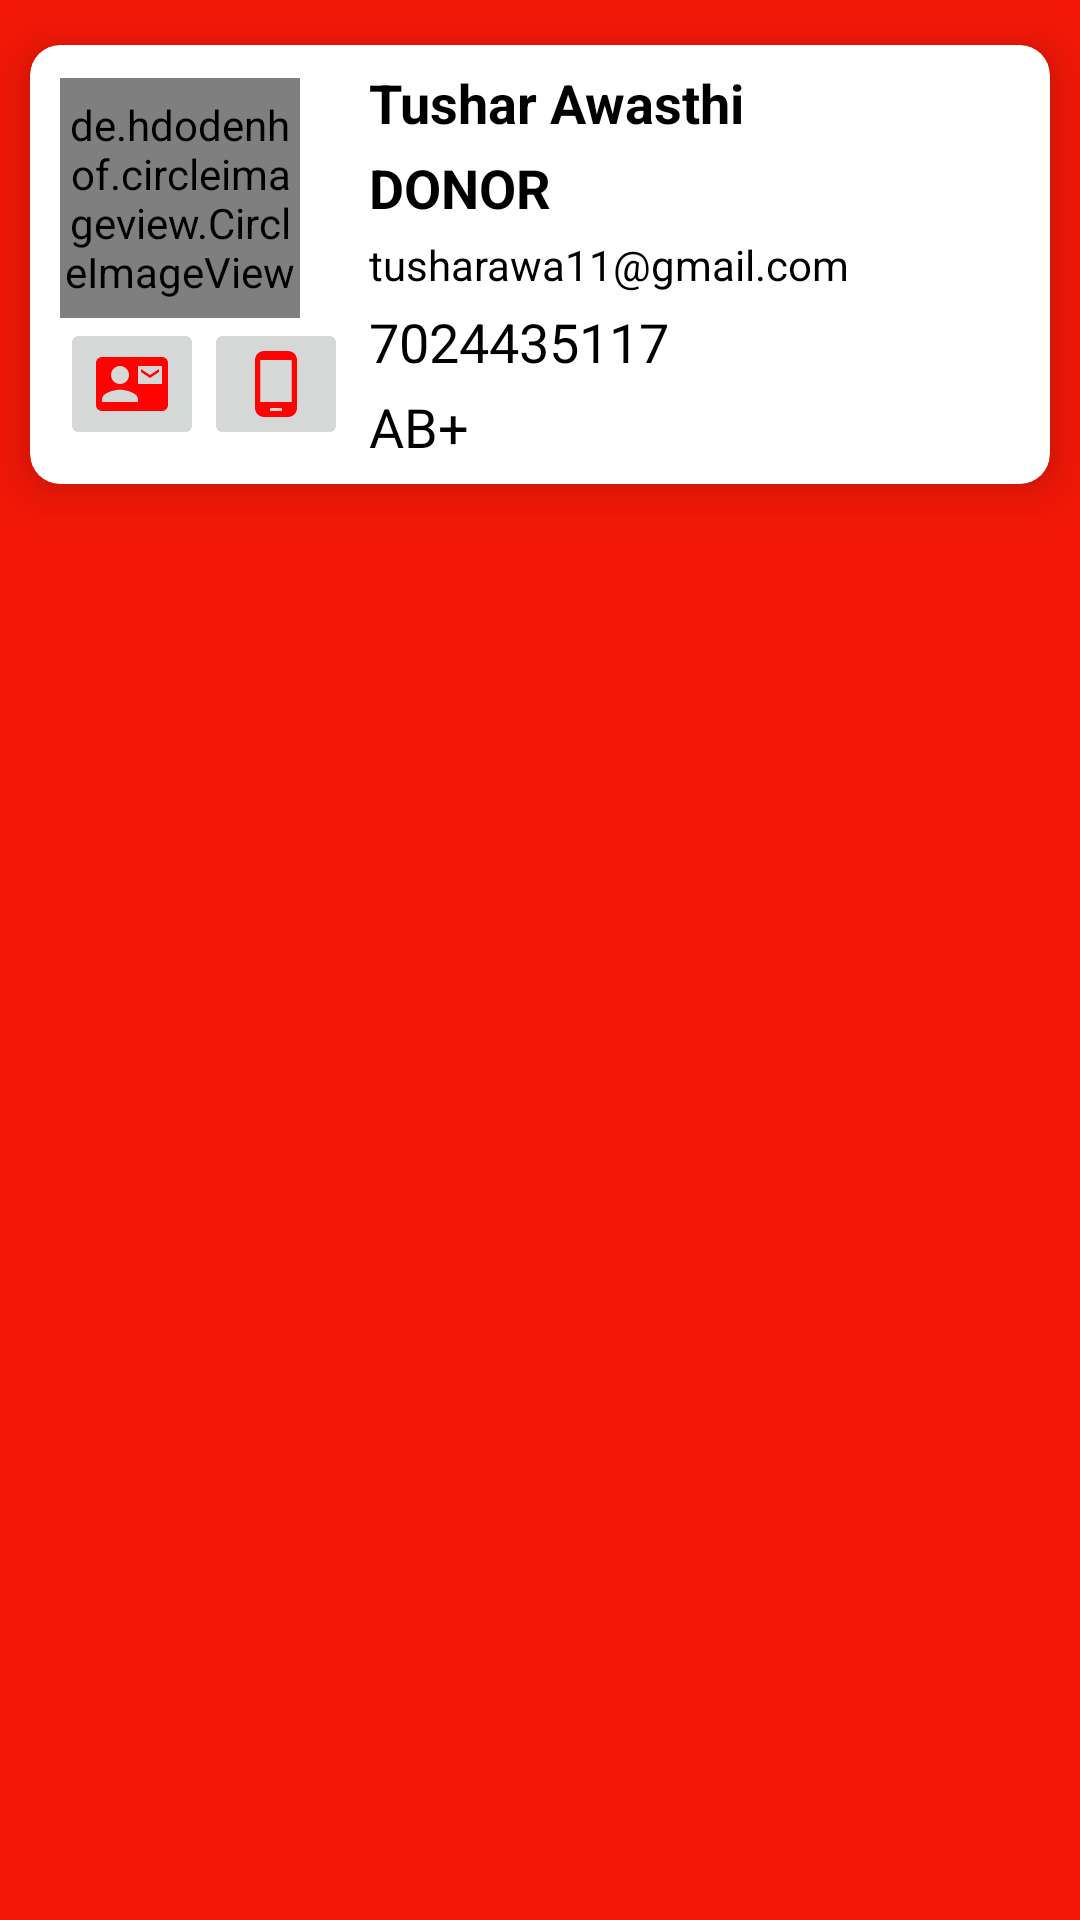

Locate icon controls on the screen. Image size 1080 × 1920, boxes as (x1, y1, x2, y2).
mail: (72, 336, 192, 432)
phone android: (216, 336, 336, 432)
